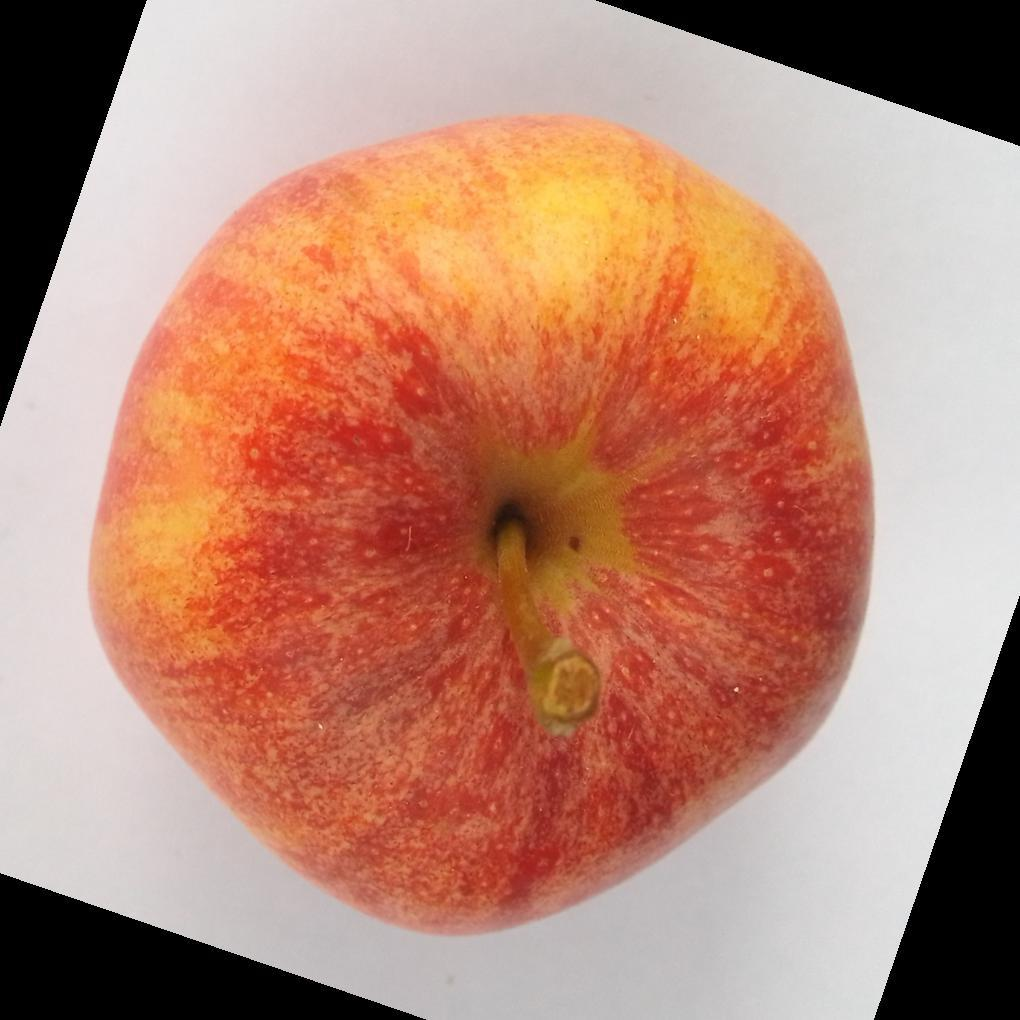FreshGuava: (81, 114, 877, 939)
